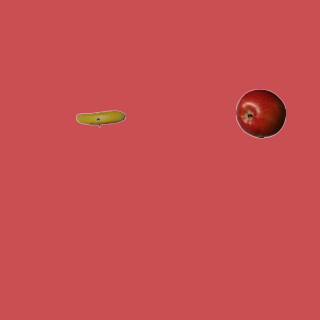Apple Braeburn: (235, 88, 285, 138)
Banana: (75, 93, 125, 143)
